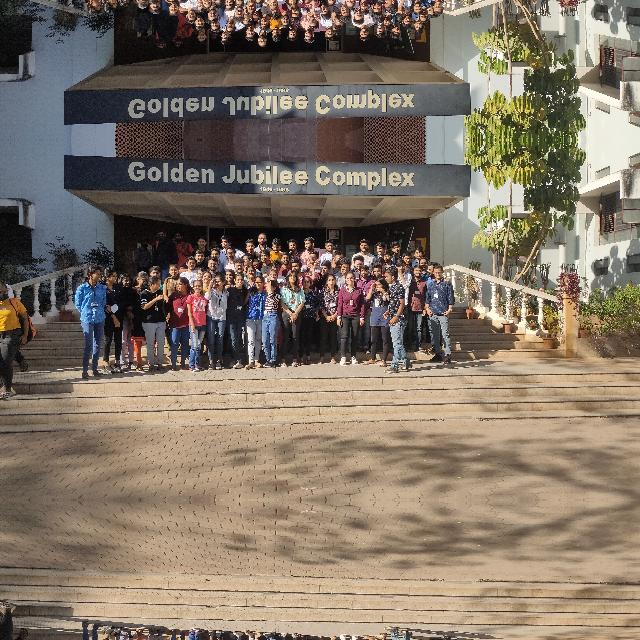person: (0, 278, 34, 416), (76, 258, 112, 378), (424, 267, 458, 371), (384, 265, 414, 377), (240, 266, 268, 366), (142, 276, 168, 374), (339, 272, 367, 362), (186, 263, 207, 371), (282, 270, 304, 372), (318, 272, 342, 362), (210, 269, 230, 375), (0, 584, 34, 640), (76, 0, 112, 21), (76, 622, 112, 640), (383, 623, 414, 640), (383, 0, 414, 15), (424, 0, 458, 13), (141, 625, 168, 640), (424, 629, 458, 640), (185, 0, 206, 17), (240, 0, 267, 13), (210, 625, 229, 640), (282, 628, 303, 640), (185, 629, 206, 640), (339, 0, 367, 8), (282, 0, 303, 10), (210, 0, 229, 11), (318, 0, 341, 8), (240, 634, 267, 640), (141, 0, 168, 4), (339, 637, 367, 640), (0, 0, 34, 2), (318, 638, 341, 640)
